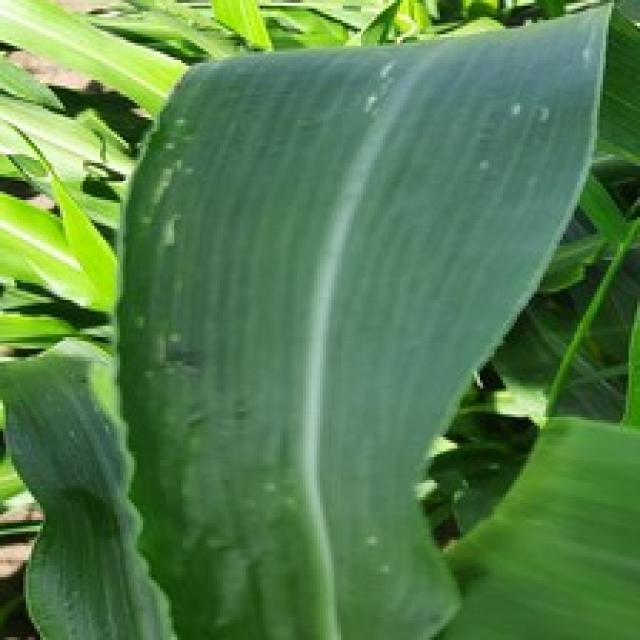Corn: (0, 0, 637, 637), (0, 334, 174, 637), (423, 412, 637, 637)
